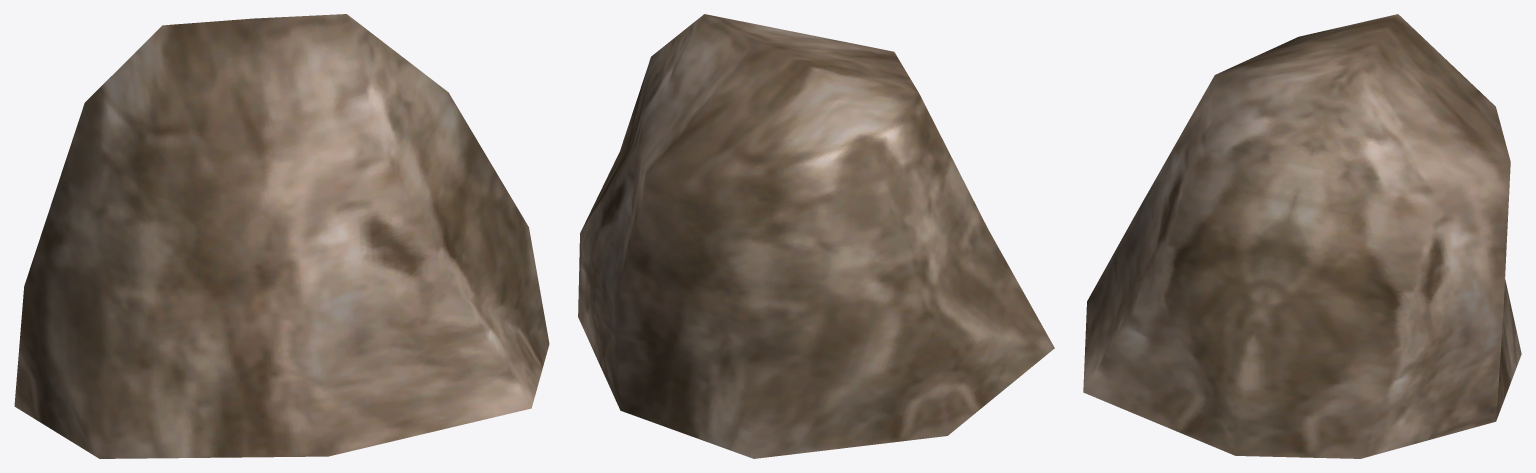
File: OVERHILL_A_01_ROCK35.fbx
3 renders of one model, left to right at view 1: azimuth 30°, elevation 25°; view 2: azimuth 150°, elevation 25°; view 3: azimuth 270°, elevation 25°, orthographic. The views are drawn at different scales.
Visible parts, largest first — view 1: OVERHILL_A_01_ROCK35; view 2: OVERHILL_A_01_ROCK35; view 3: OVERHILL_A_01_ROCK35.
Part boxes in pixels (x1,y1,x2,y2): OVERHILL_A_01_ROCK35: (14,14,549,458); OVERHILL_A_01_ROCK35: (578,14,1054,458); OVERHILL_A_01_ROCK35: (1083,14,1521,458).
Bounding box in the file's own units: 35507 × 27056 × 31645.
Materials: 1 (1 with a texture image).
